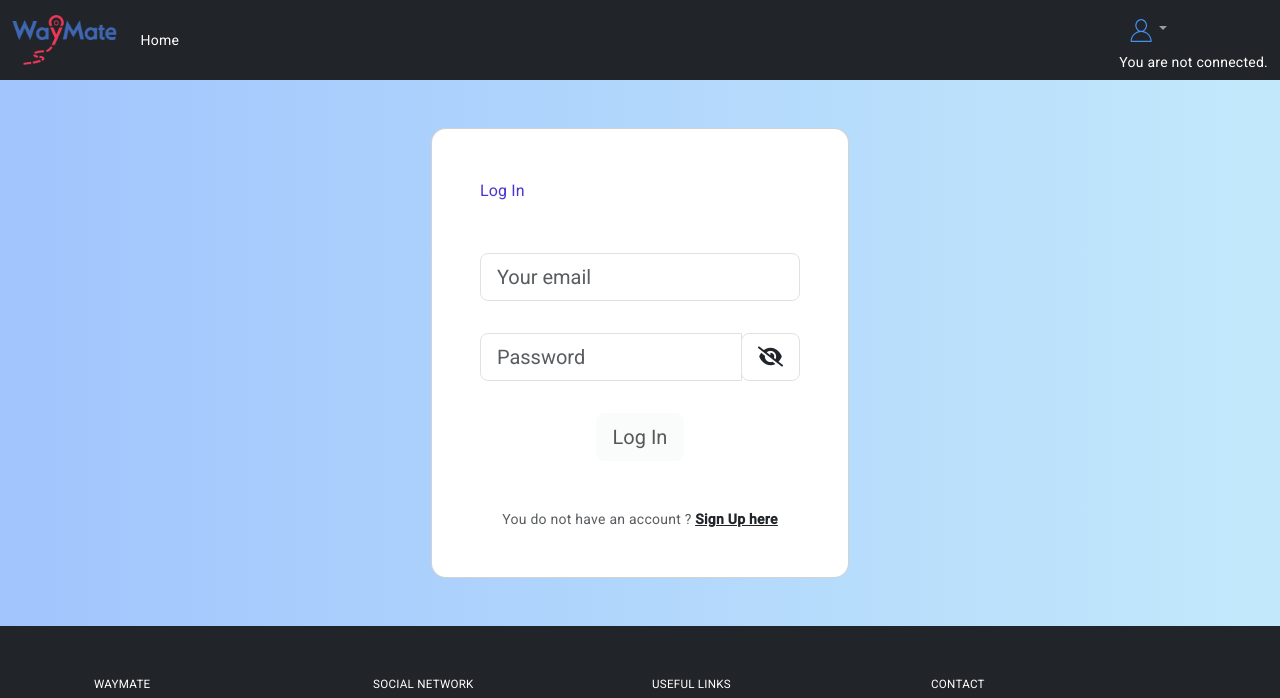
it: Login Test › should fail validation with invalid email
In the field named "email": (640, 277) left=480, top=253, right=800, bottom=301, type "captain.rex"
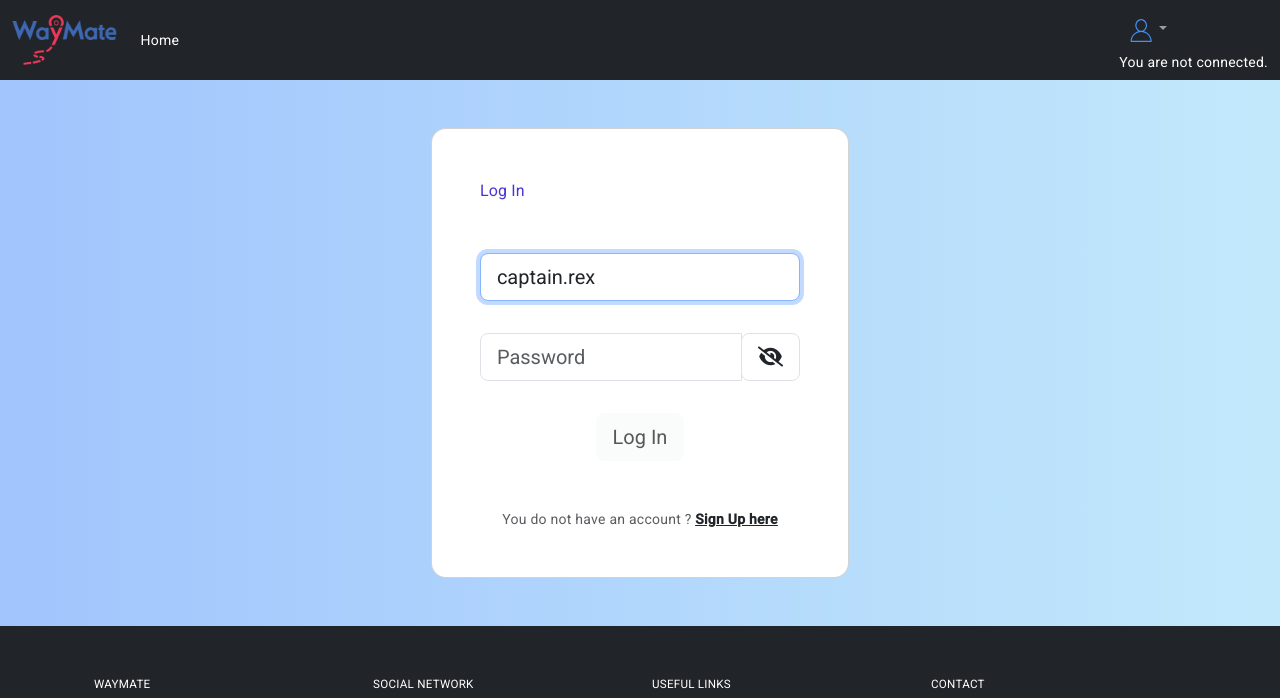
In the password field named "password": (611, 357) left=480, top=333, right=742, bottom=381, type "PasswordTest1234!"
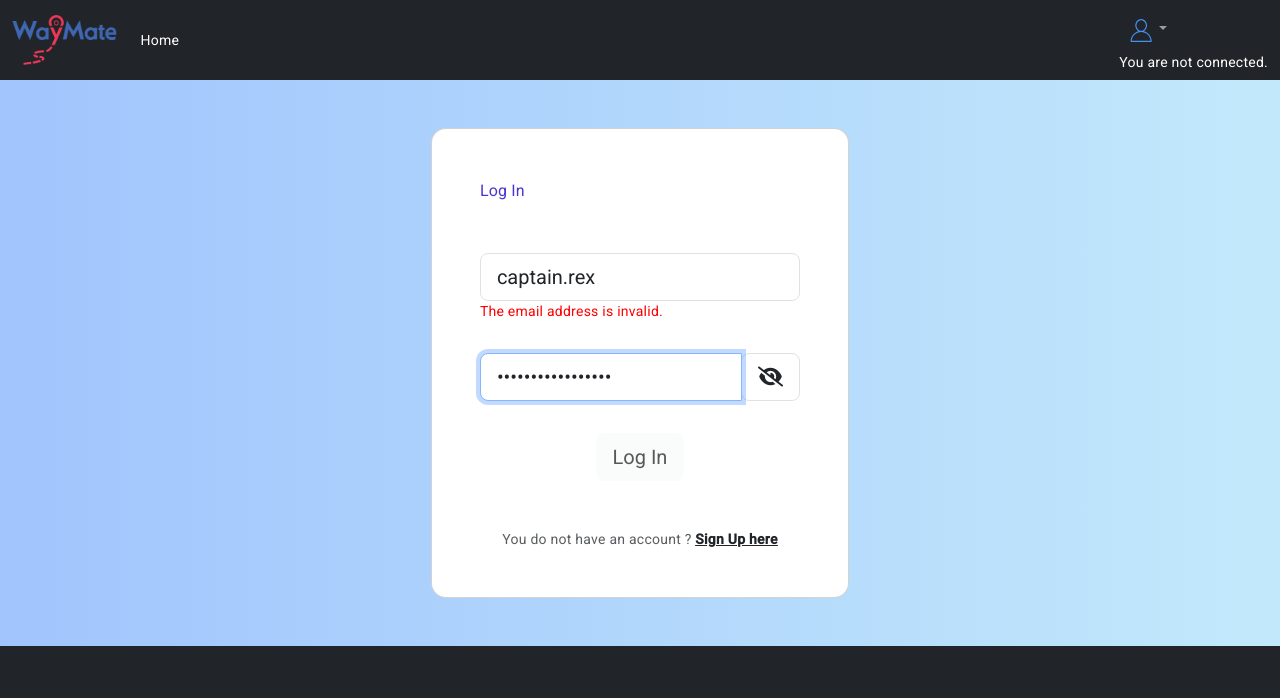
Check: the text "The email address is invalid." is shown, box left=480, top=303, right=663, bottom=319
